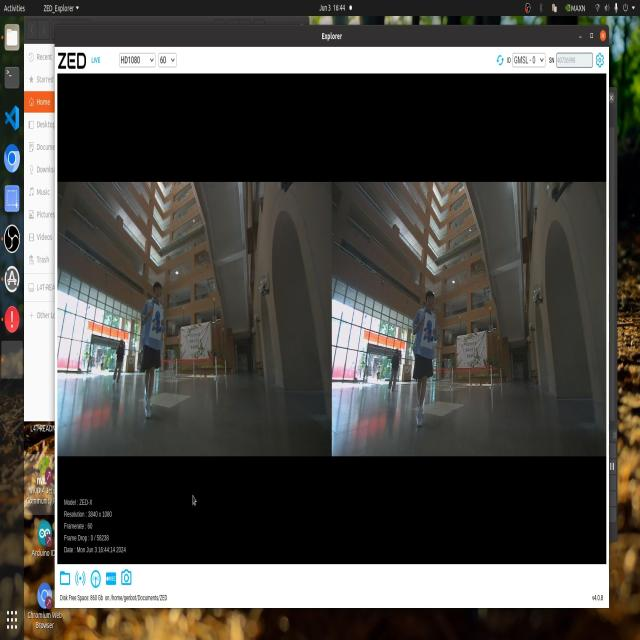blue: (423, 316, 436, 345), (150, 307, 163, 328)
